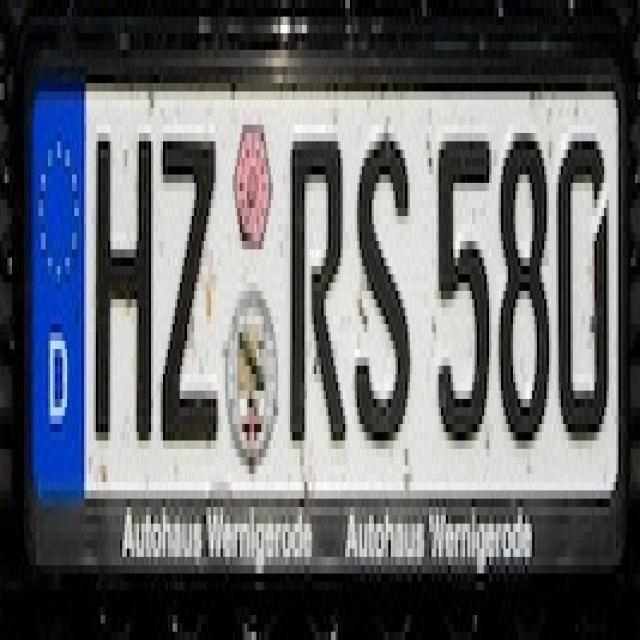licenseplate: (18, 25, 635, 640)
